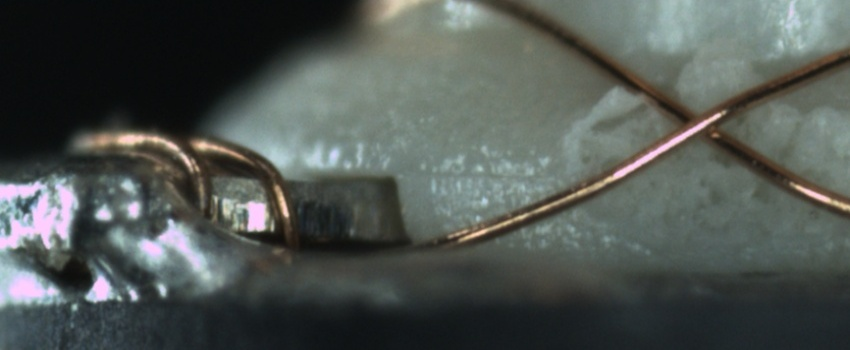CL: (652, 90, 741, 154)
DL: (412, 142, 552, 198)
TE: (65, 121, 302, 258)
